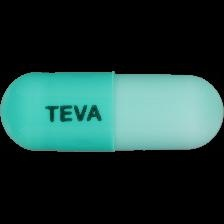0440-7380: (0, 0, 224, 224)
